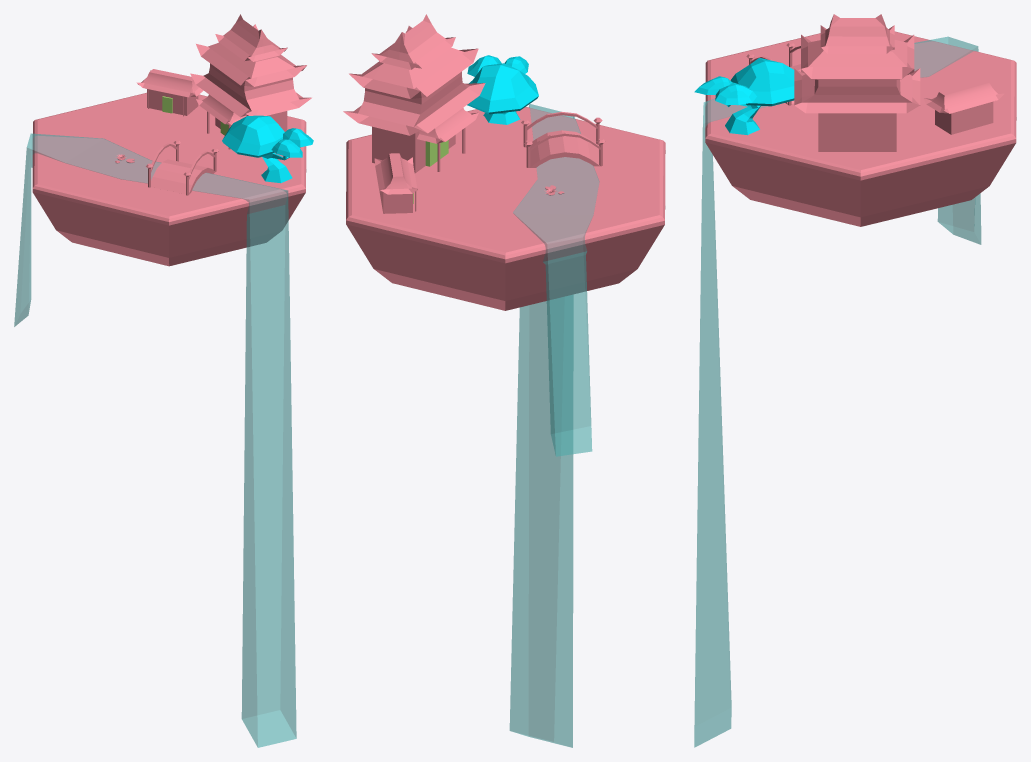
File: Asset_Biome_China.fbx
3 views of the same model, side by side, from view 1: azimuth 30°, elevation 25°; view 2: azimuth 150°, elevation 25°; view 3: azimuth 270°, elevation 25° (orthographic). The views are drawn at different scales.
Parts seen in each view (by area): view 1: PolySurface_Water, Asset_Tile_China, Big_House_china, Tree_china, Hous_china, PolySurface_Bridge; view 2: Asset_Tile_China, PolySurface_Water, Big_House_china, Tree_china, PolySurface_Bridge, Hous_china; view 3: Asset_Tile_China, PolySurface_Water, Big_House_china, Tree_china, Hous_china.
Part boxes in pixels (x1,y1,x2,y2): PolySurface_Water: [14, 133, 296, 747]; Asset_Tile_China: [32, 92, 306, 266]; Big_House_china: [190, 14, 311, 149]; Tree_china: [222, 115, 313, 183]; Hous_china: [136, 69, 203, 116]; PolySurface_Bridge: [146, 140, 218, 195]; Asset_Tile_China: [346, 107, 665, 310]; PolySurface_Water: [509, 104, 599, 747]; Big_House_china: [343, 14, 485, 173]; Tree_china: [467, 55, 538, 124]; PolySurface_Bridge: [521, 111, 605, 167]; Hous_china: [374, 153, 417, 213]; Asset_Tile_China: [705, 31, 1016, 226]; PolySurface_Water: [694, 36, 981, 747]; Big_House_china: [794, 14, 920, 151]; Tree_china: [694, 58, 794, 135]; Hous_china: [923, 79, 1004, 134].
Size of the model in its own units: 436 by 1003 by 392.
Materials: 3 (2 with a texture image).
